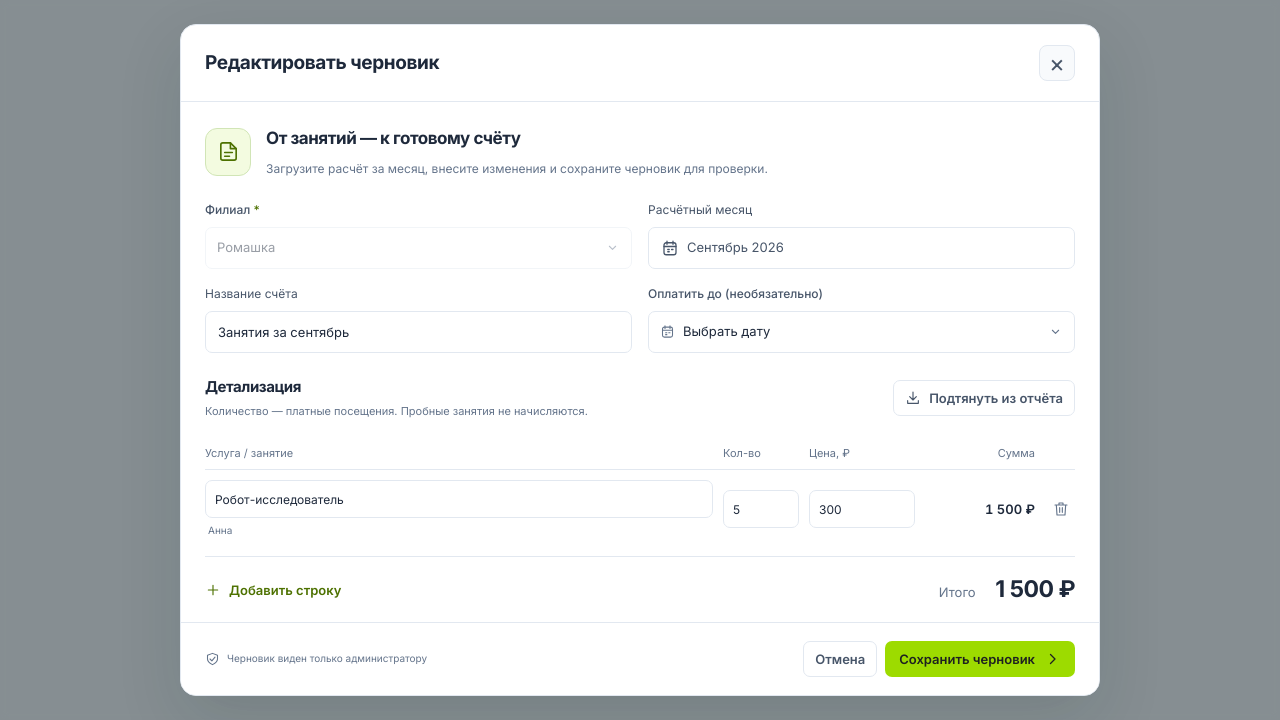
Test: a delayed report does not replace rows the administrator changed during loading
Click the button "Подтянуть из отчёта".
click(984, 398)  # box [893,380,1075,416]
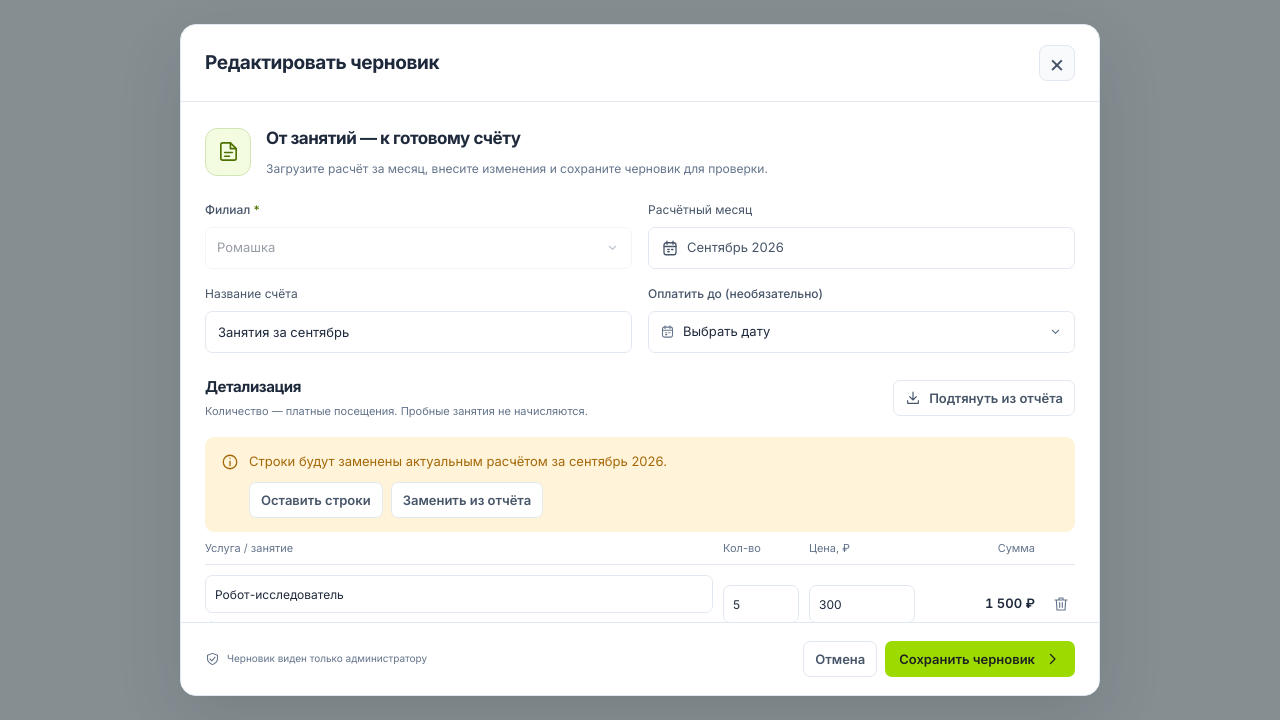
Click the button "Заменить из отчёта".
click(467, 500)  # box [391,482,543,518]
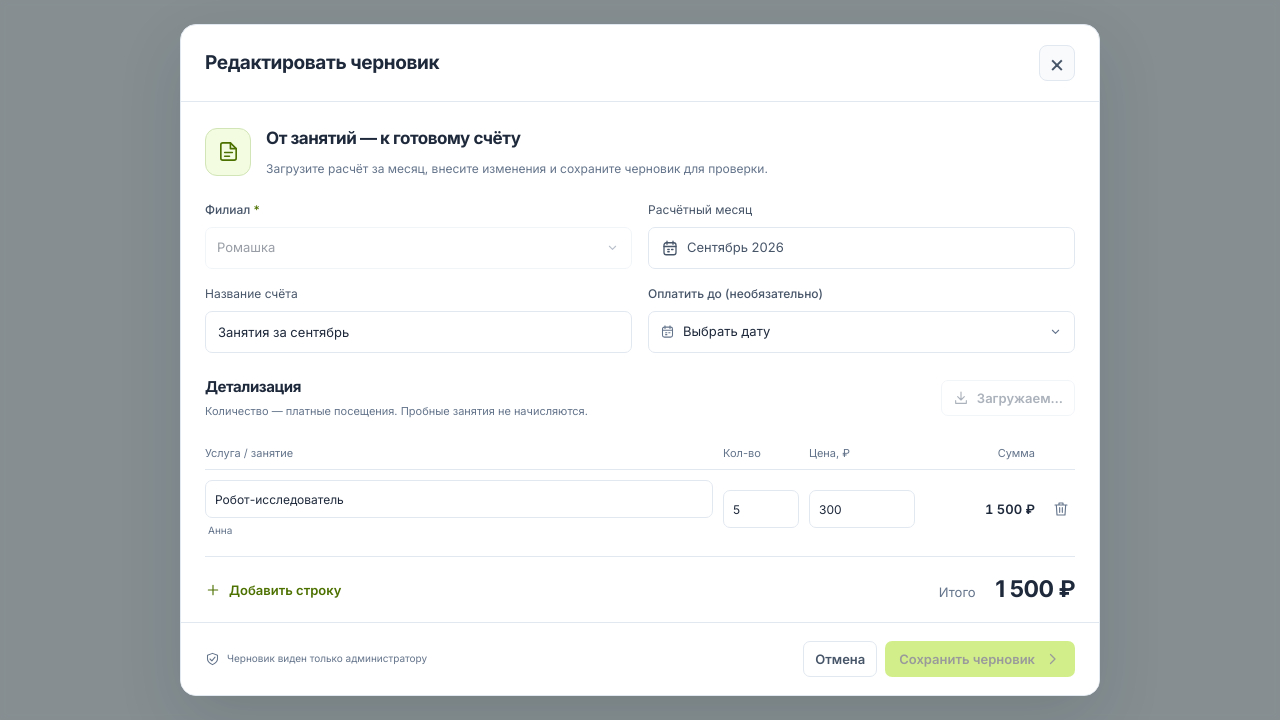
Replace the text in the number field named "Количество строки 1" with "7" at (761, 509), box [723,490,799,528]
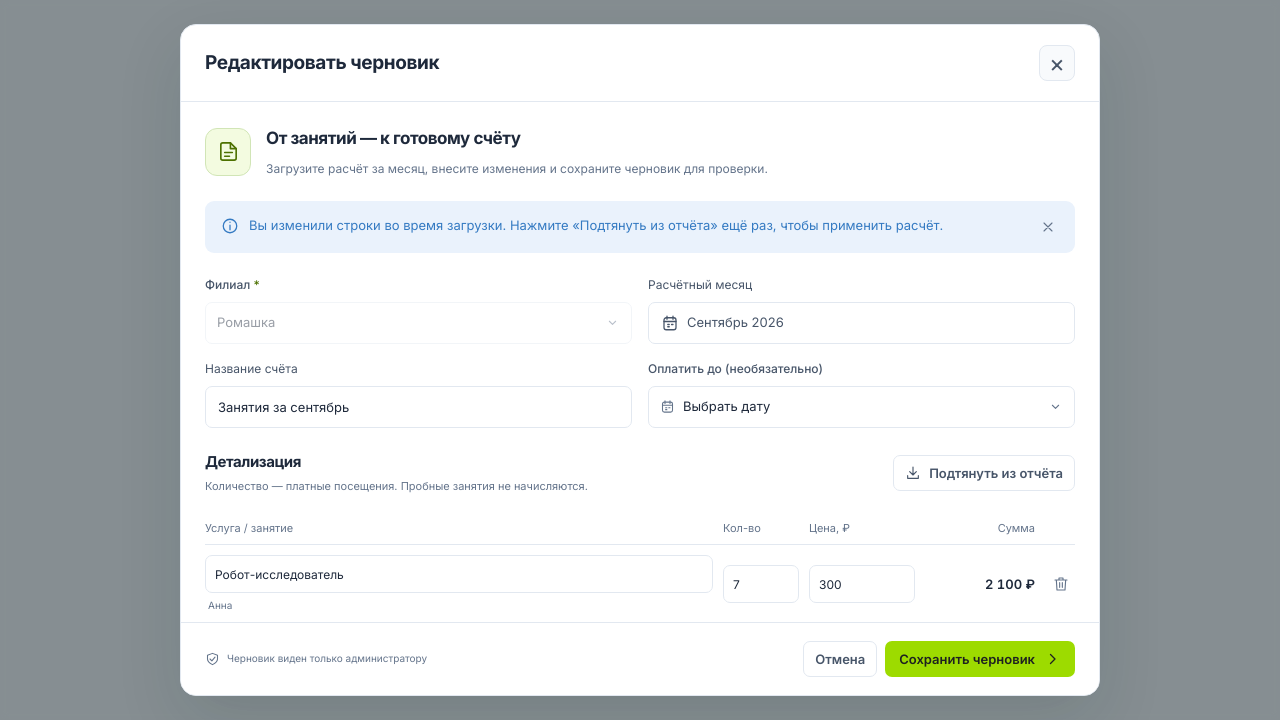
Expected: the text "Вы изменили строки во время загрузки" is shown, [249,217,943,233]
